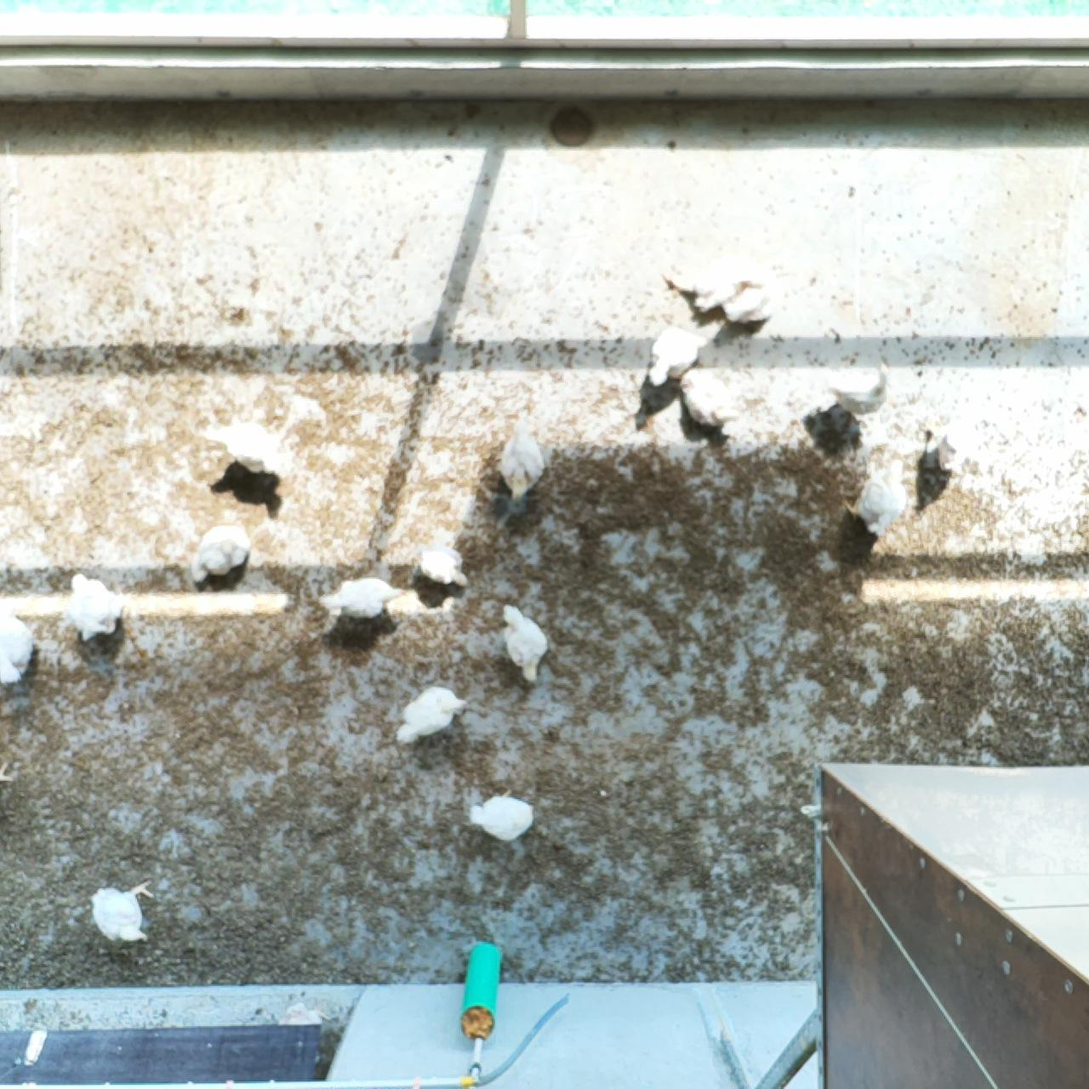chicken: (663, 243, 766, 311), (842, 455, 913, 542), (211, 418, 298, 481), (391, 683, 470, 752), (720, 244, 782, 328), (88, 875, 157, 949), (646, 307, 706, 392), (495, 412, 549, 506), (63, 570, 129, 643), (315, 572, 408, 622), (498, 600, 552, 685), (823, 357, 898, 418), (679, 363, 744, 432), (465, 783, 538, 844), (926, 411, 986, 483), (188, 522, 253, 586), (410, 539, 473, 590), (0, 605, 37, 688)
